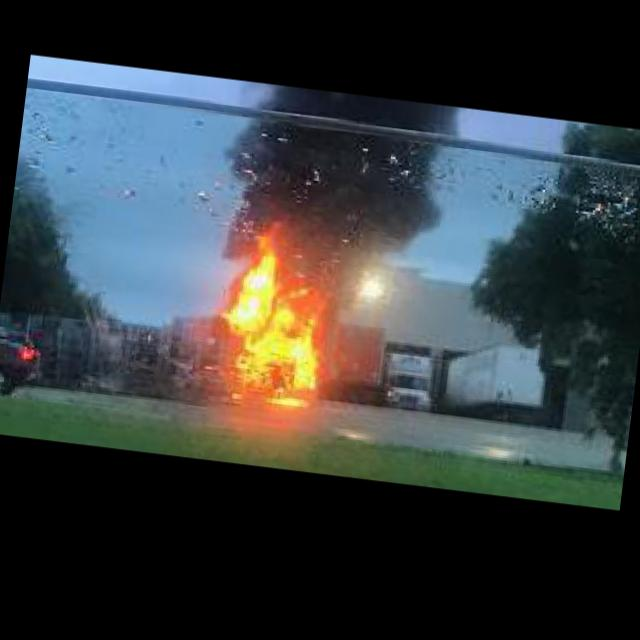fire: (212, 244, 328, 405)
smoke: (202, 78, 463, 275)
